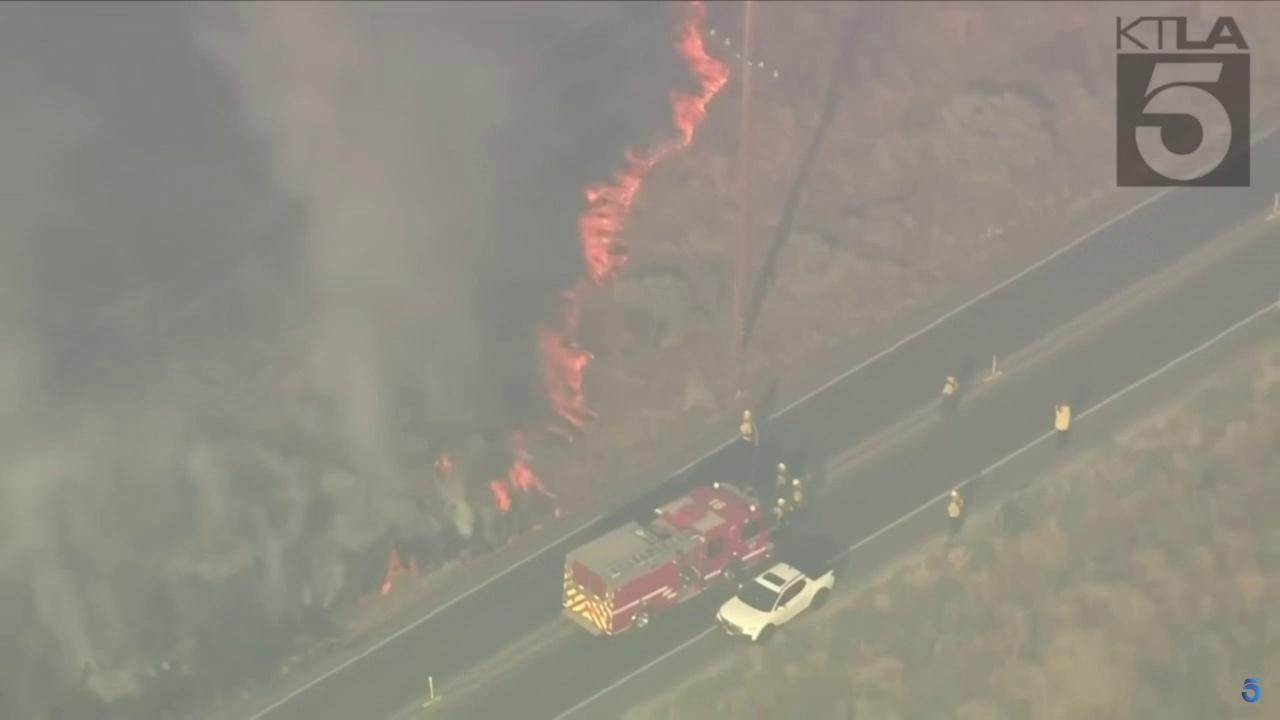fire: (574, 0, 732, 286), (534, 323, 598, 430), (488, 460, 561, 517), (380, 548, 403, 597), (434, 454, 453, 470)
smoke: (0, 0, 705, 720)
